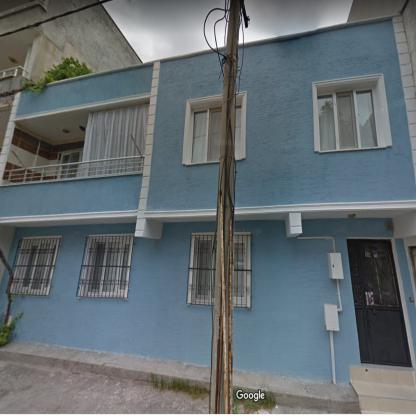door: (347, 239, 411, 366)
window: (318, 87, 382, 152), (80, 235, 134, 296), (11, 238, 60, 294), (187, 105, 221, 164), (188, 232, 214, 304), (234, 233, 250, 307), (58, 150, 80, 177), (235, 104, 242, 158)
